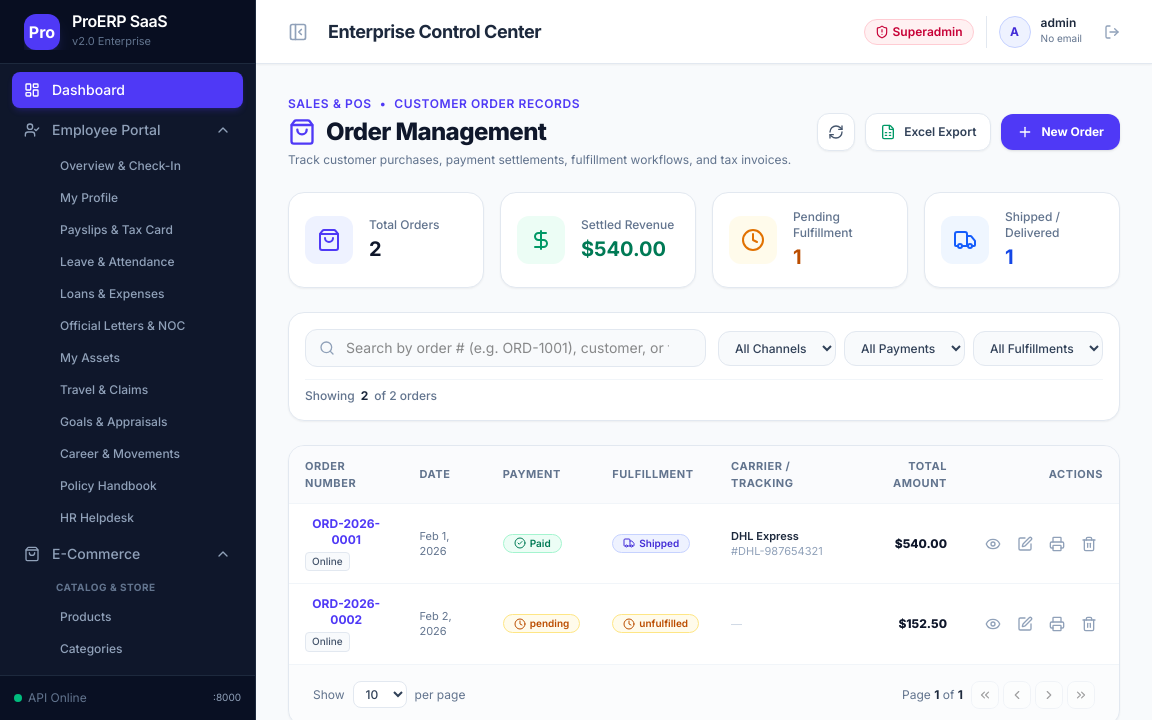
Test: Ecommerce Orders In-Place Non-Destructive Filtering Audit › performs in-place search without unmounting table
Replace the text in the field with placeholder "Search by order #" with "0001": (506, 348) [305, 329, 706, 367]
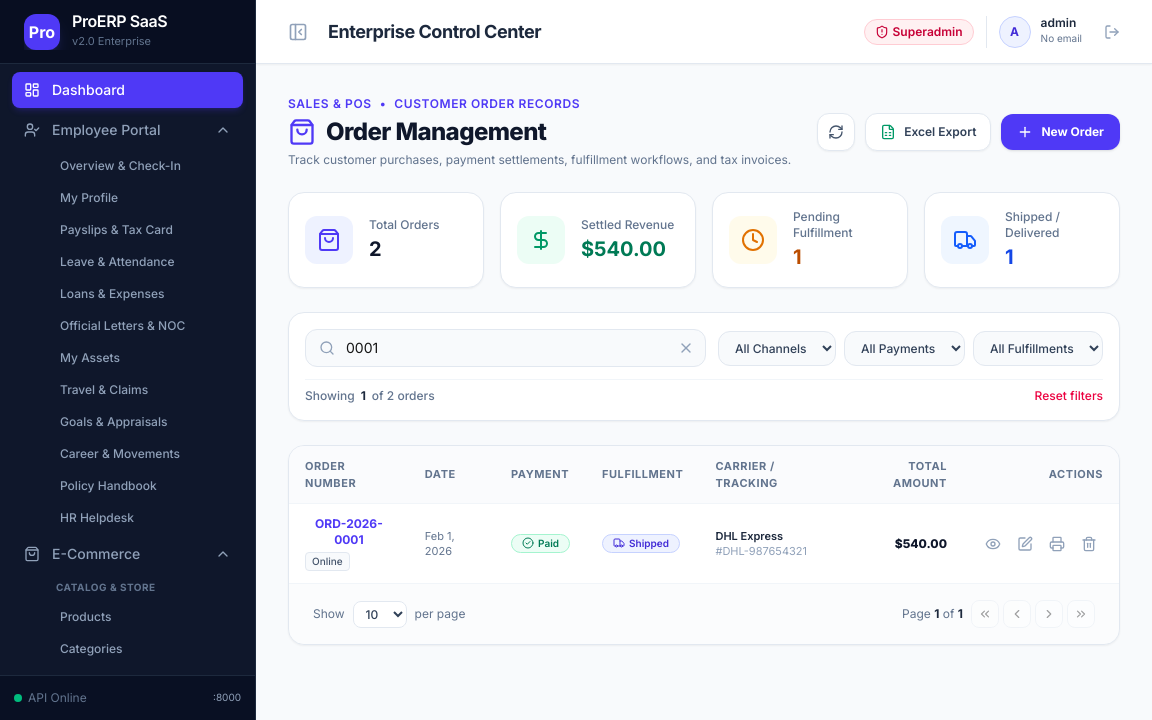
expect the button "ORD-2026-0001" is shown: met, box [305, 516, 393, 548]
expect the button "ORD-2026-0002" is gone: met
